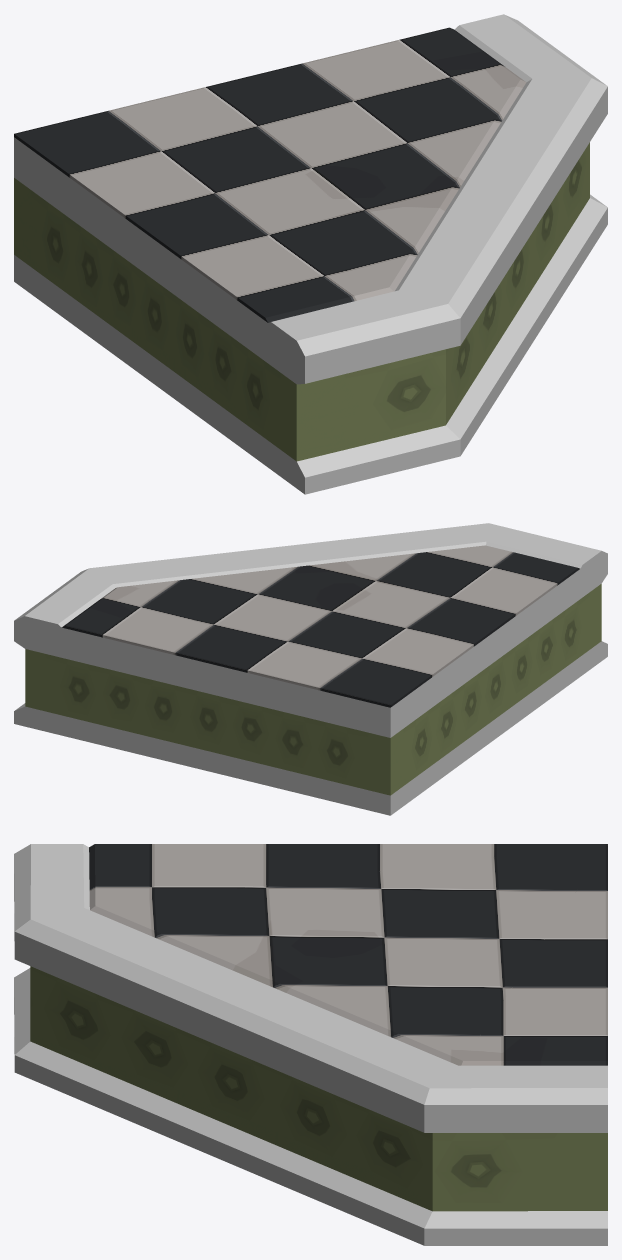
The model's file is SM_Prop_Platform_02_Corner_L_03.fbx.
The picture shows the model from 3 angles, top to bottom: view 1: azimuth 30°, elevation 25°; view 2: azimuth 150°, elevation 25°; view 3: azimuth 270°, elevation 25°; orthographic projection. The views are drawn at different scales.
Visible parts, largest first — view 1: SM_Prop_Platform_02_Corner_L_03; view 2: SM_Prop_Platform_02_Corner_L_03; view 3: SM_Prop_Platform_02_Corner_L_03.
Boxes of the visible parts, x1,y1,x2,y2 form: SM_Prop_Platform_02_Corner_L_03: [14, 14, 607, 494]; SM_Prop_Platform_02_Corner_L_03: [14, 523, 607, 815]; SM_Prop_Platform_02_Corner_L_03: [14, 844, 607, 1245].
Size of the model in its own units: 178 by 50 by 178.
